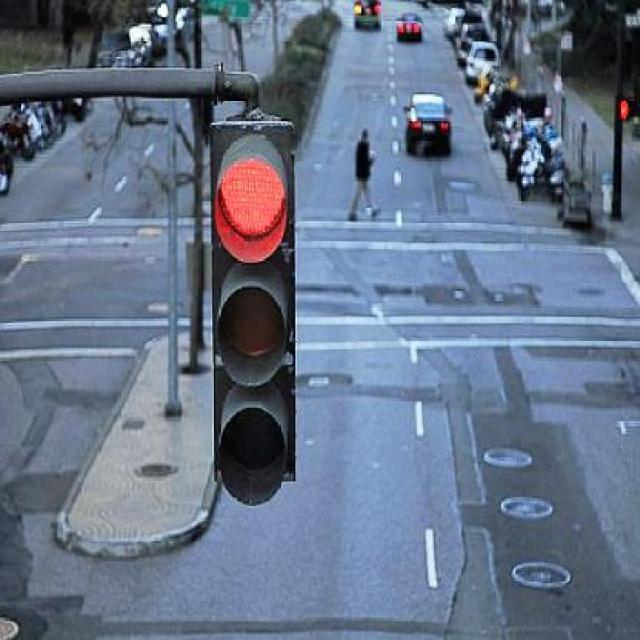red_light: (196, 89, 312, 509)
